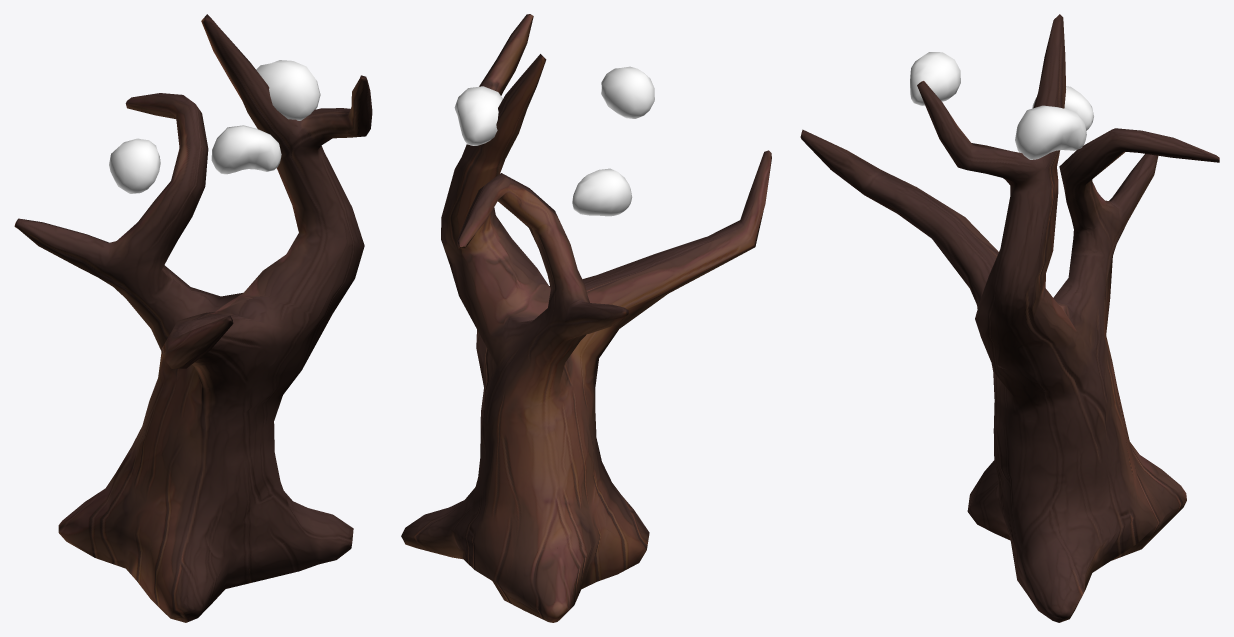
File: tree3.fbx
3 views of the same model, side by side, from view 1: azimuth 30°, elevation 25°; view 2: azimuth 150°, elevation 25°; view 3: azimuth 270°, elevation 25° (orthographic). The views are drawn at different scales.
Parts seen in each view (by area): view 1: polySurface58; view 2: polySurface58; view 3: polySurface58.
Part boxes in pixels (box(x1,y1,x2,y2)): polySurface58: box(14, 14, 372, 622); polySurface58: box(401, 14, 771, 622); polySurface58: box(800, 14, 1219, 622).
Bounding box in the file's own units: 541 × 1014 × 706.
